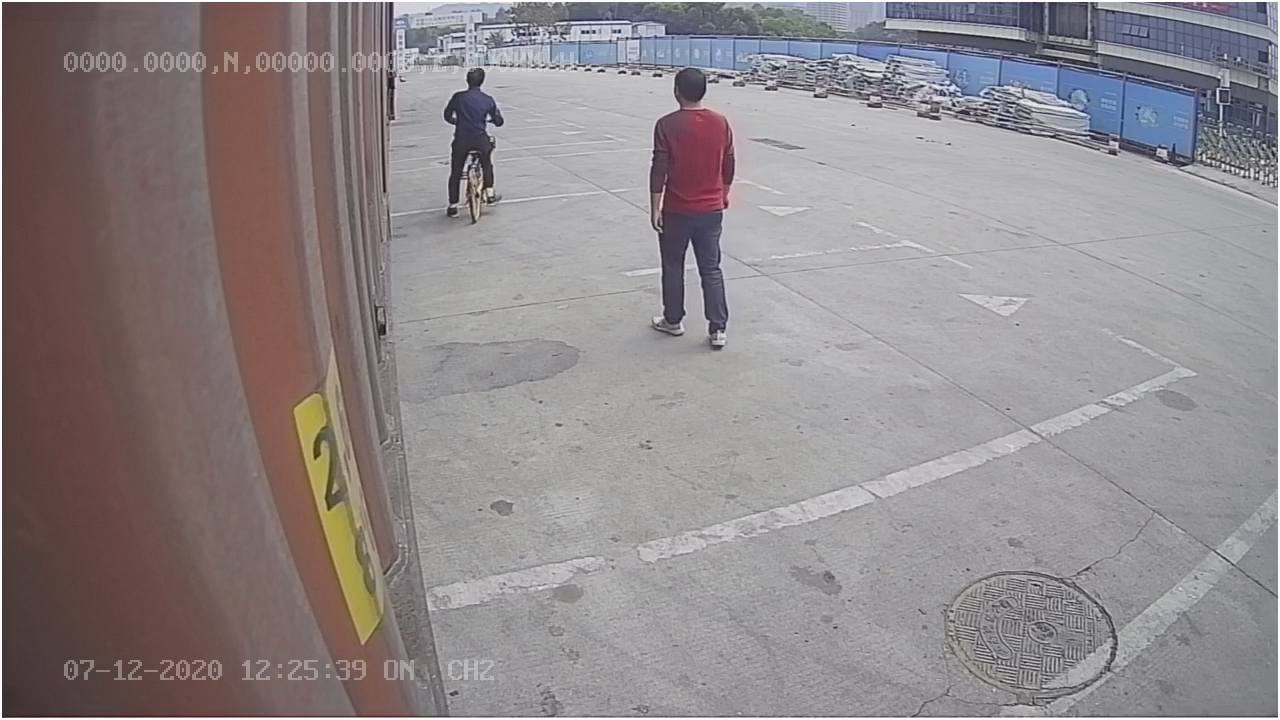person: (640, 62, 744, 352)
